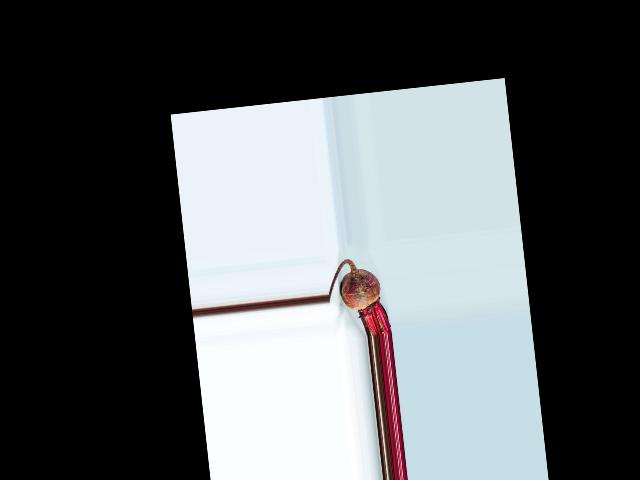beet: (325, 255, 392, 341)
